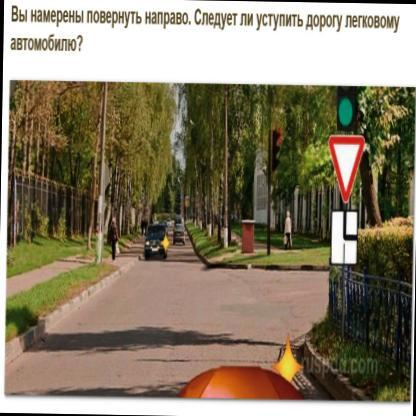off traffic light: (272, 130, 282, 171)
road_sign: (328, 136, 365, 201), (330, 209, 359, 265)
traffic light: (337, 86, 357, 131)
